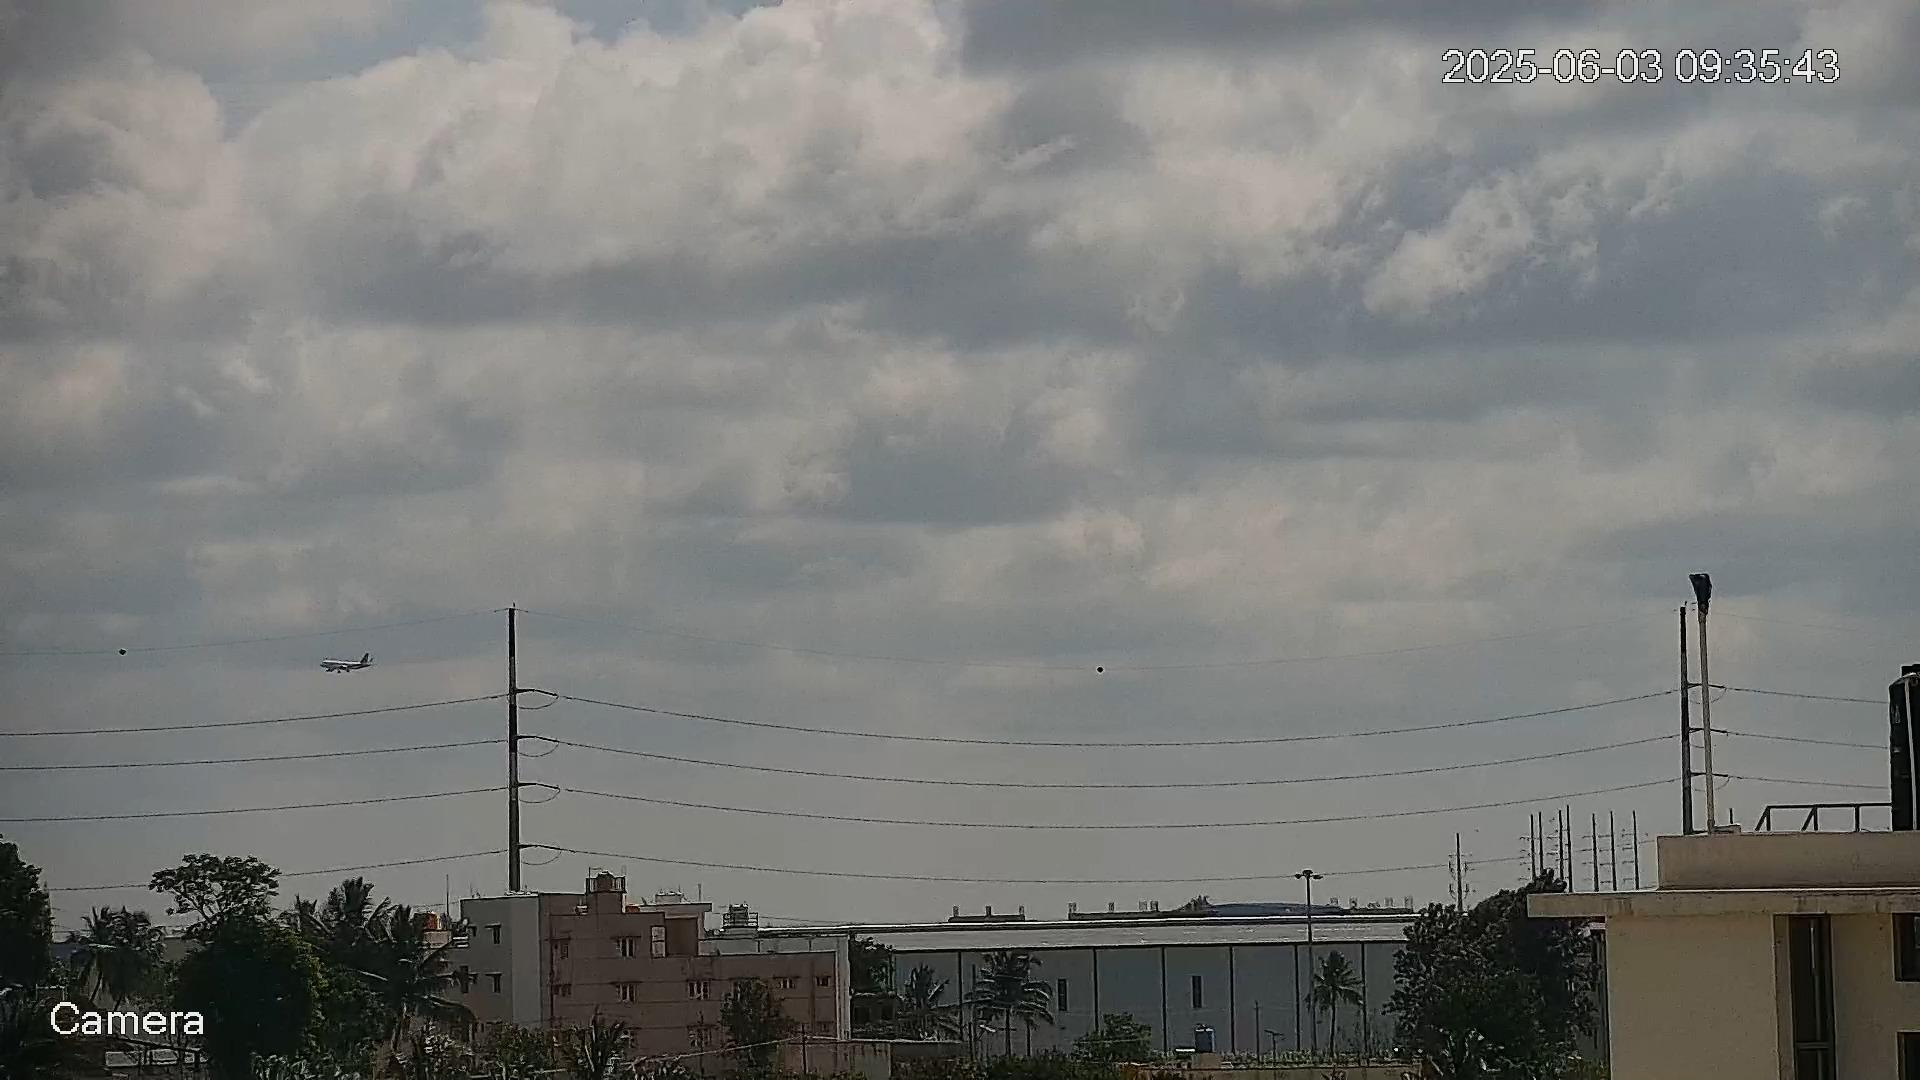Aircraft: (318, 650, 377, 674)
